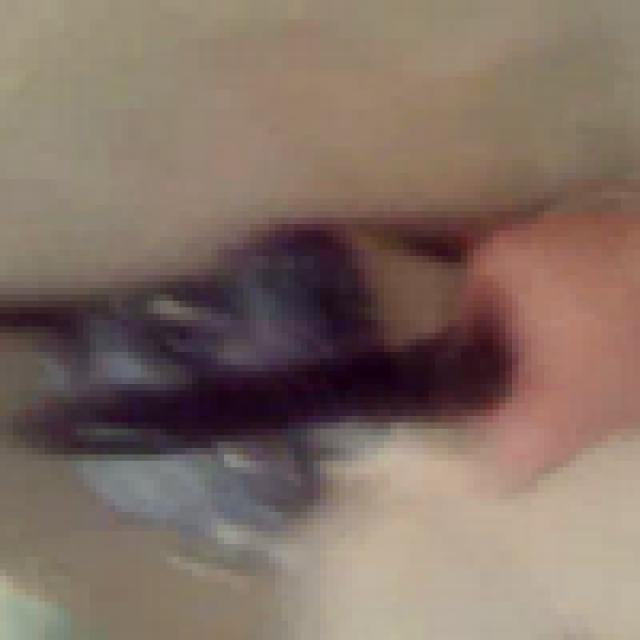knife: (0, 218, 493, 454)
